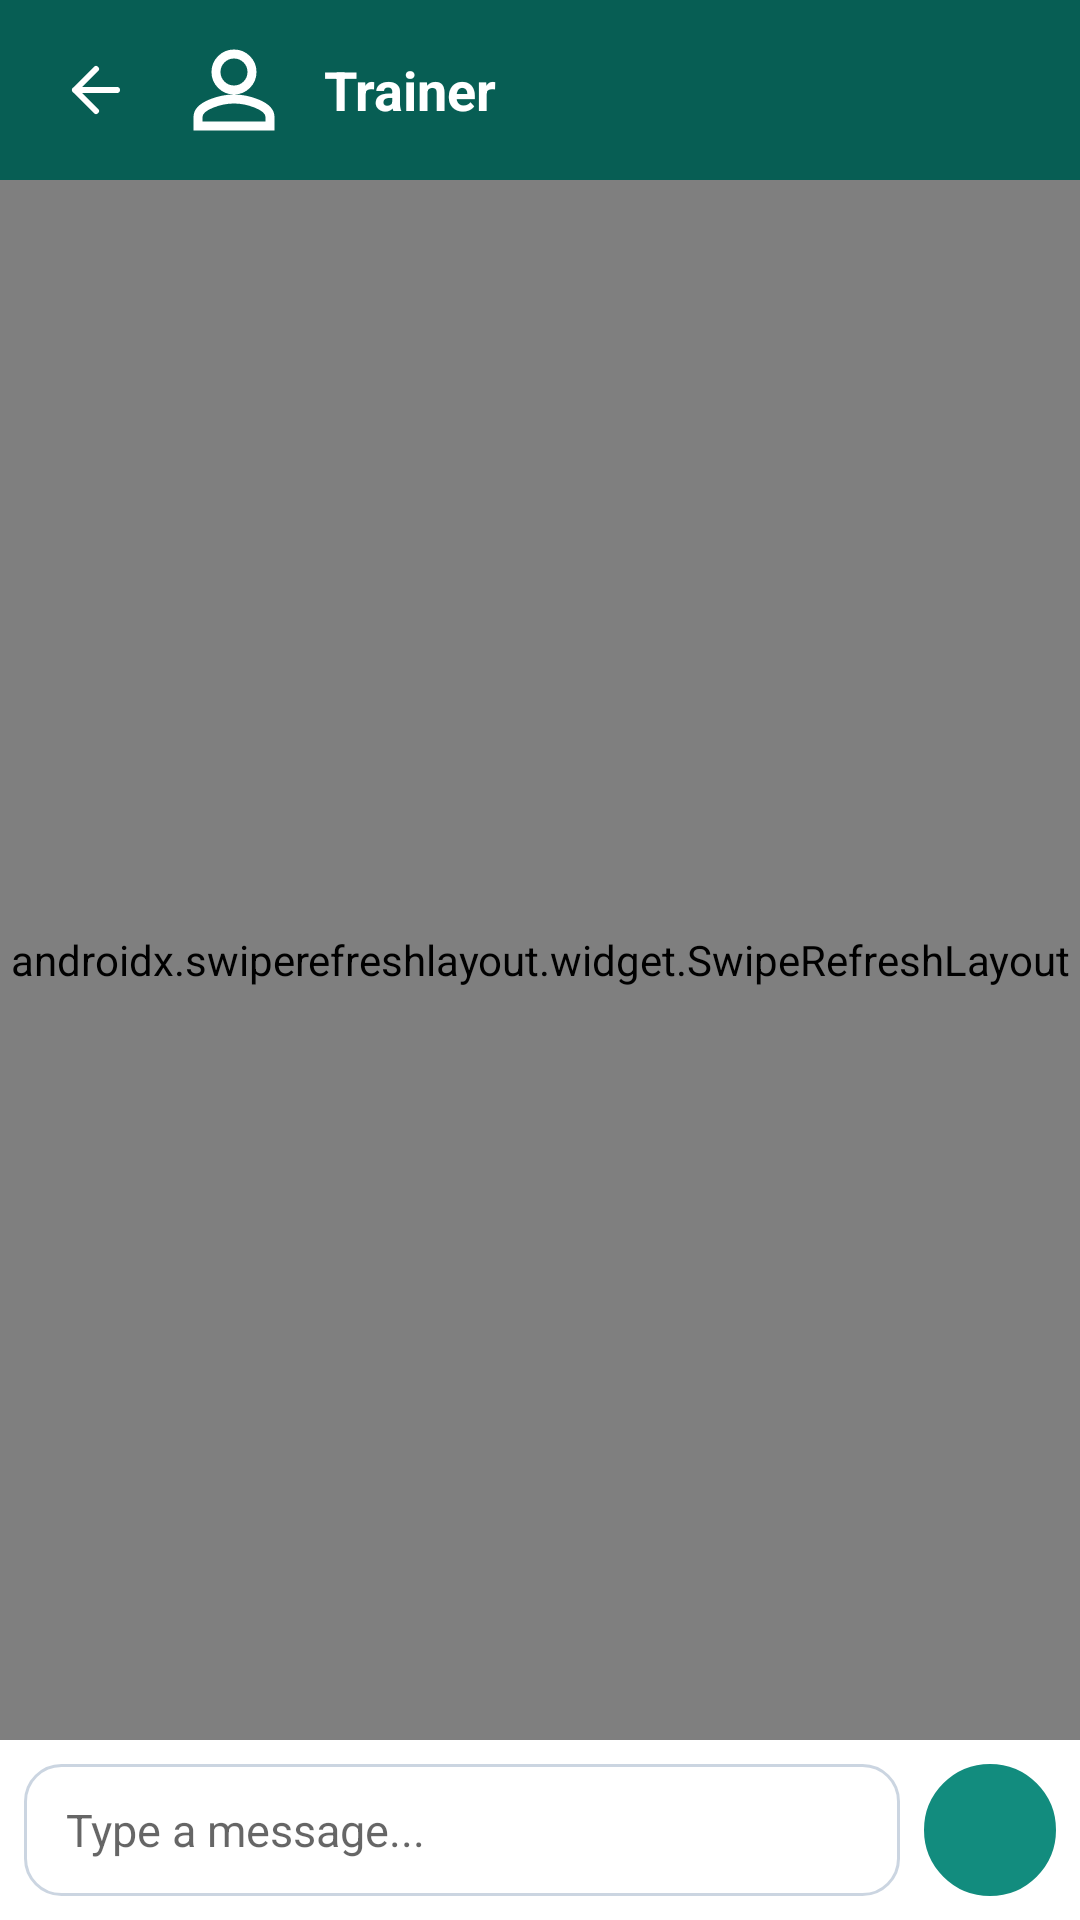

Screen size 1080px×1920px. Icon name, then its box in pixels as (x1, y1, x2, y2):
Avatar: (193, 49, 275, 131)
Back: (72, 66, 120, 114)
